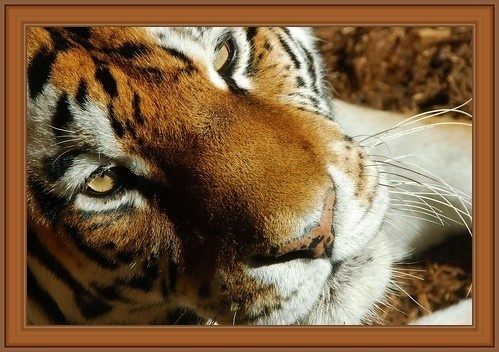tigre: (27, 27, 469, 326)
